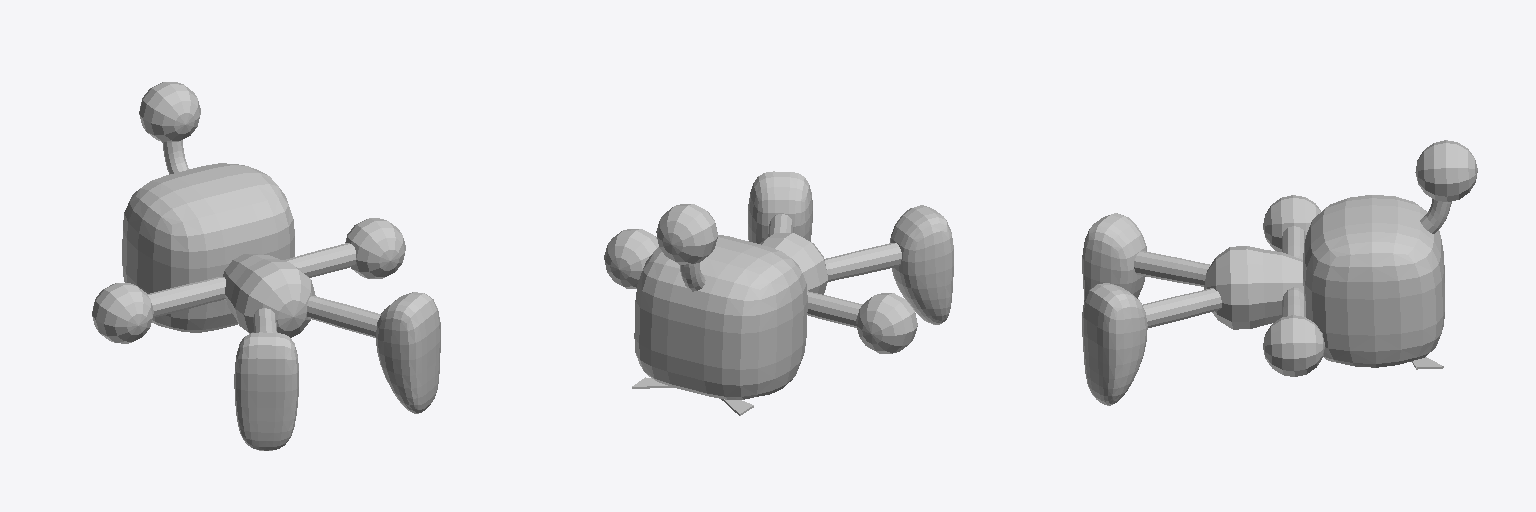
The model's file is bomberman.obj.
3 renders of one model, left to right at view 1: azimuth 30°, elevation 25°; view 2: azimuth 150°, elevation 25°; view 3: azimuth 270°, elevation 25°, orthographic.
Parts seen in each view (by area): view 1: mesh01.001, mesh08.001, mesh09.001, mesh02.001, sphere02.001, sphere01.001, sphere03.001, mesh04.001, mesh06.001, mesh05.001, mesh03.001; view 2: mesh01.001, mesh08.001, mesh09.001, sphere02.001, sphere01.001, sphere03.001, mesh02.001, mesh07.001, mesh04.001, mesh03.001; view 3: mesh01.001, mesh09.001, mesh02.001, mesh08.001, sphere01.001, sphere03.001, mesh06.001, sphere02.001, mesh07.001, mesh03.001, mesh04.001, mesh05.001.
Part boxes in pixels (left/top/right/bottom): mesh01.001: left=122, top=163, right=294, bottom=332; mesh08.001: left=234, top=332, right=298, bottom=450; mesh09.001: left=376, top=292, right=440, bottom=413; mesh02.001: left=223, top=254, right=315, bottom=337; sphere02.001: left=92, top=283, right=153, bottom=343; sphere01.001: left=139, top=82, right=200, bottom=142; sphere03.001: left=345, top=218, right=405, bottom=278; mesh04.001: left=147, top=277, right=225, bottom=317; mesh06.001: left=307, top=296, right=380, bottom=337; mesh05.001: left=284, top=243, right=355, bottom=277; mesh03.001: left=162, top=140, right=188, bottom=174; mesh01.001: left=634, top=235, right=807, bottom=399; mesh08.001: left=890, top=205, right=953, bottom=324; mesh09.001: left=748, top=171, right=812, bottom=243; sphere02.001: left=856, top=293, right=917, bottom=353; sphere01.001: left=656, top=204, right=717, bottom=264; sphere03.001: left=604, top=229, right=658, bottom=288; mesh02.001: left=760, top=233, right=827, bottom=294; mesh07.001: left=825, top=243, right=901, bottom=281; mesh04.001: left=807, top=291, right=862, bottom=327; mesh03.001: left=679, top=263, right=705, bottom=291; mesh01.001: left=1303, top=195, right=1444, bottom=367; mesh09.001: left=1082, top=283, right=1147, bottom=405; mesh02.001: left=1204, top=246, right=1303, bottom=329; mesh08.001: left=1082, top=213, right=1146, bottom=299; sphere01.001: left=1415, top=140, right=1477, bottom=201; sphere03.001: left=1263, top=315, right=1324, bottom=376; mesh06.001: left=1143, top=288, right=1221, bottom=327; sphere02.001: left=1263, top=195, right=1320, bottom=251; mesh07.001: left=1134, top=251, right=1210, bottom=286; mesh03.001: left=1420, top=199, right=1451, bottom=233; mesh04.001: left=1282, top=226, right=1305, bottom=259; mesh05.001: left=1282, top=287, right=1305, bottom=316.
Bounding box in the file's own units: 1.78 × 1.24 × 1.99.